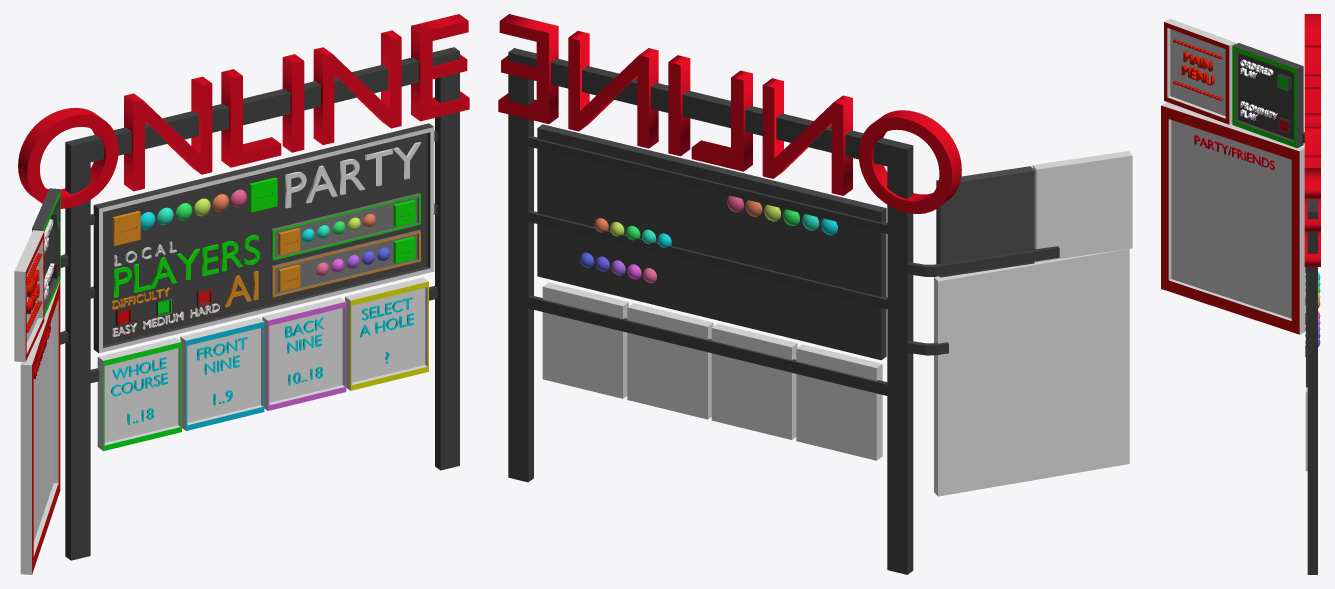
The model's file is menu_online.glb.
The picture shows the model from 3 angles, left to right: view 1: azimuth 30°, elevation 25°; view 2: azimuth 150°, elevation 25°; view 3: azimuth 270°, elevation 25°; orthographic projection. The views are drawn at different scales.
Visible parts, largest first — view 1: Cube, sign_body, online, friends_board, map_set_whole_course_board, map_set_back_nine_board, map_set_select_a_hole_board, map_set_front_nine_board, ai_count_border, player_count_border, main_menu_board, Text (+10 smaller); view 2: Cube, friends_board, sign_body, online, main_menu_board, playstyle_selection_board, map_set_whole_course_board, map_set_front_nine_board, map_set_select_a_hole_board, map_set_back_nine_board; view 3: friends_board, playstyle_selection_board, main_menu_board, online, sign_body, main_menu_text, playstyle_selection_text, friends_text, map_set_select_a_hole_board, Cube, playstyle_toggle_button_proximity, playstyle_toggle_button_ordered.
Boxes of the visible parts, x1=… form: Cube: x1=93, y1=123, x2=434, y2=353; sign_body: x1=60, y1=47, x2=459, y2=560; online: x1=18, y1=14, x2=469, y2=208; friends_board: x1=20, y1=281, x2=60, y2=574; map_set_whole_course_board: x1=97, y1=337, x2=181, y2=451; map_set_back_nine_board: x1=262, y1=297, x2=346, y2=410; map_set_select_a_hole_board: x1=345, y1=277, x2=428, y2=390; map_set_front_nine_board: x1=180, y1=317, x2=264, y2=430; ai_count_border: x1=271, y1=230, x2=420, y2=297; player_count_border: x1=271, y1=193, x2=420, y2=260; main_menu_board: x1=14, y1=230, x2=44, y2=362; Text: x1=285, y1=142, x2=421, y2=208; Cube: x1=537, y1=124, x2=886, y2=360; friends_board: x1=934, y1=249, x2=1129, y2=496; sign_body: x1=508, y1=48, x2=1059, y2=574; online: x1=498, y1=14, x2=961, y2=213; main_menu_board: x1=1032, y1=151, x2=1132, y2=262; playstyle_selection_board: x1=936, y1=166, x2=1034, y2=277; map_set_whole_course_board: x1=796, y1=344, x2=882, y2=460; map_set_front_nine_board: x1=711, y1=323, x2=797, y2=439; map_set_select_a_hole_board: x1=542, y1=282, x2=628, y2=398; map_set_back_nine_board: x1=627, y1=303, x2=713, y2=419; friends_board: x1=1161, y1=102, x2=1305, y2=334; playstyle_selection_board: x1=1232, y1=43, x2=1303, y2=148; main_menu_board: x1=1164, y1=18, x2=1235, y2=124; online: x1=1304, y1=14, x2=1320, y2=266; sign_body: x1=1302, y1=132, x2=1317, y2=574; main_menu_text: x1=1173, y1=39, x2=1223, y2=100; playstyle_selection_text: x1=1240, y1=59, x2=1277, y2=120; friends_text: x1=1194, y1=135, x2=1274, y2=169; map_set_select_a_hole_board: x1=1305, y1=359, x2=1307, y2=471; Cube: x1=1306, y1=267, x2=1307, y2=387; playstyle_toggle_button_proximity: x1=1277, y1=117, x2=1291, y2=134; playstyle_toggle_button_ordered: x1=1277, y1=74, x2=1291, y2=91.
Size of the model in its own units: 52.69 by 42.2 by 15.68.
